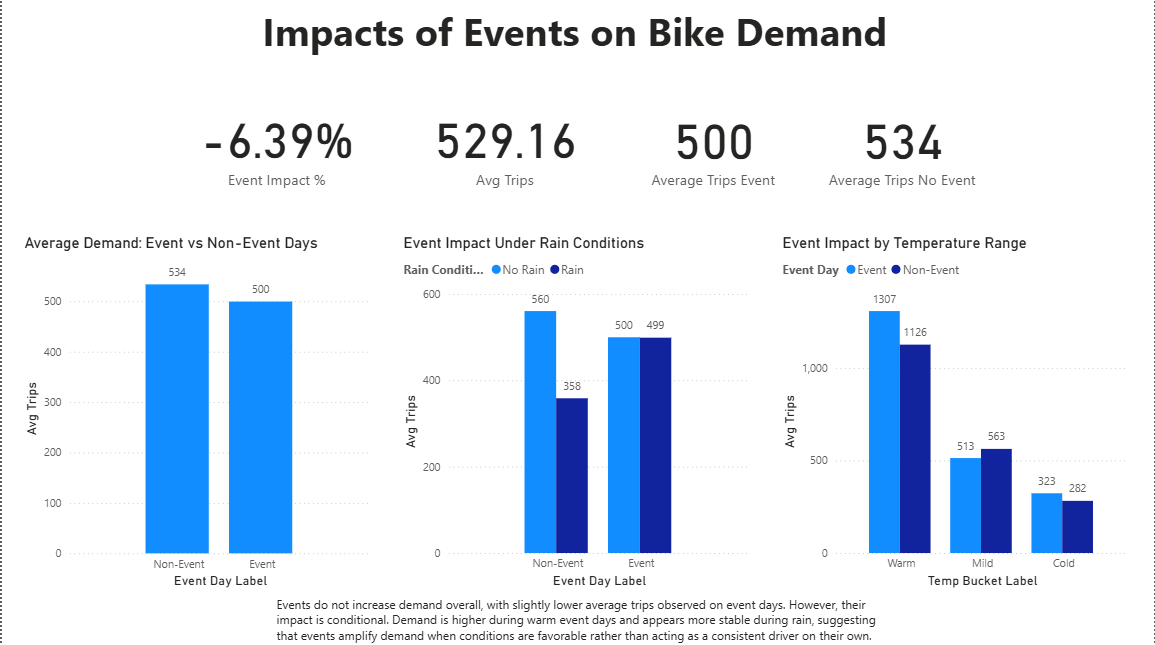

The page's visual inventory and layout, read from the dashboard file:
{"tool":"powerbi","page":{"name":"Event Impact","canvas":[1280,720],"ordinal":2},"visuals":[{"type":"card","fields":{"Values":["demand.Event Impact %"]},"box":[195.5,106,219.8,109.9],"z":0},{"type":"card","fields":{"Values":["demand.Avg Trips"]},"box":[862.7,106,219.8,109.9],"z":1000},{"type":"clusteredColumnChart","title":"Average Demand: Event vs Non-Event Days","fields":{"Y":["demand.Avg Trips"],"Category":["demand.Event Day Label"]},"box":[20.4,259.7,394.9,397.8],"z":2000},{"type":"clusteredColumnChart","title":"Event Impact Under Rain Conditions","fields":{"Y":["demand.Avg Trips"],"Category":["demand.Event Day Label"],"Series":["demand.Rain Condition Label"]},"box":[441.6,259.7,394.9,397.8],"z":3000},{"type":"clusteredColumnChart","title":"Event Impact by Temperature Range","fields":{"Y":["demand.Avg Trips"],"Series":["demand.Event Day Label"],"Category":["demand.Temp Bucket Label"]},"box":[862.7,259.7,394.9,397.8],"z":4000},{"type":"textbox","box":[285,0,709.1,72.9],"z":5000},{"type":"textbox","box":[299.6,657.5,687.7,62.2],"z":6000}]}

Visuals, with their boxes in screenshot pixels (x1, y1, x2, y2), scaled from the page's 1280x720 canvas onto the 1155x645 screenshot:
card - demand.Event Impact %: 176/95/375/193
card - demand.Avg Trips: 778/95/977/193
"Average Demand: Event vs Non-Event Days" clusteredColumnChart: 18/233/375/589
"Event Impact Under Rain Conditions" clusteredColumnChart: 398/233/755/589
"Event Impact by Temperature Range" clusteredColumnChart: 778/233/1135/589
textbox: 257/0/897/65
textbox: 270/589/891/644
